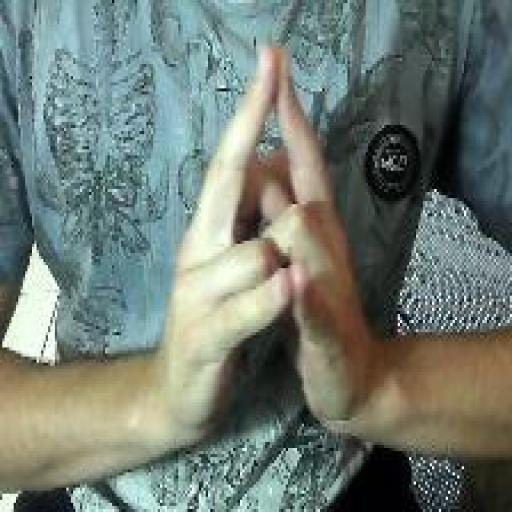Tori -bird-: (151, 38, 377, 456)
